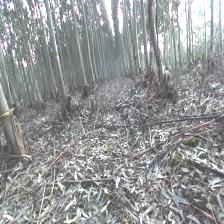trunk: (44, 4, 68, 104), (0, 83, 22, 152), (147, 4, 165, 80), (72, 11, 86, 89)
